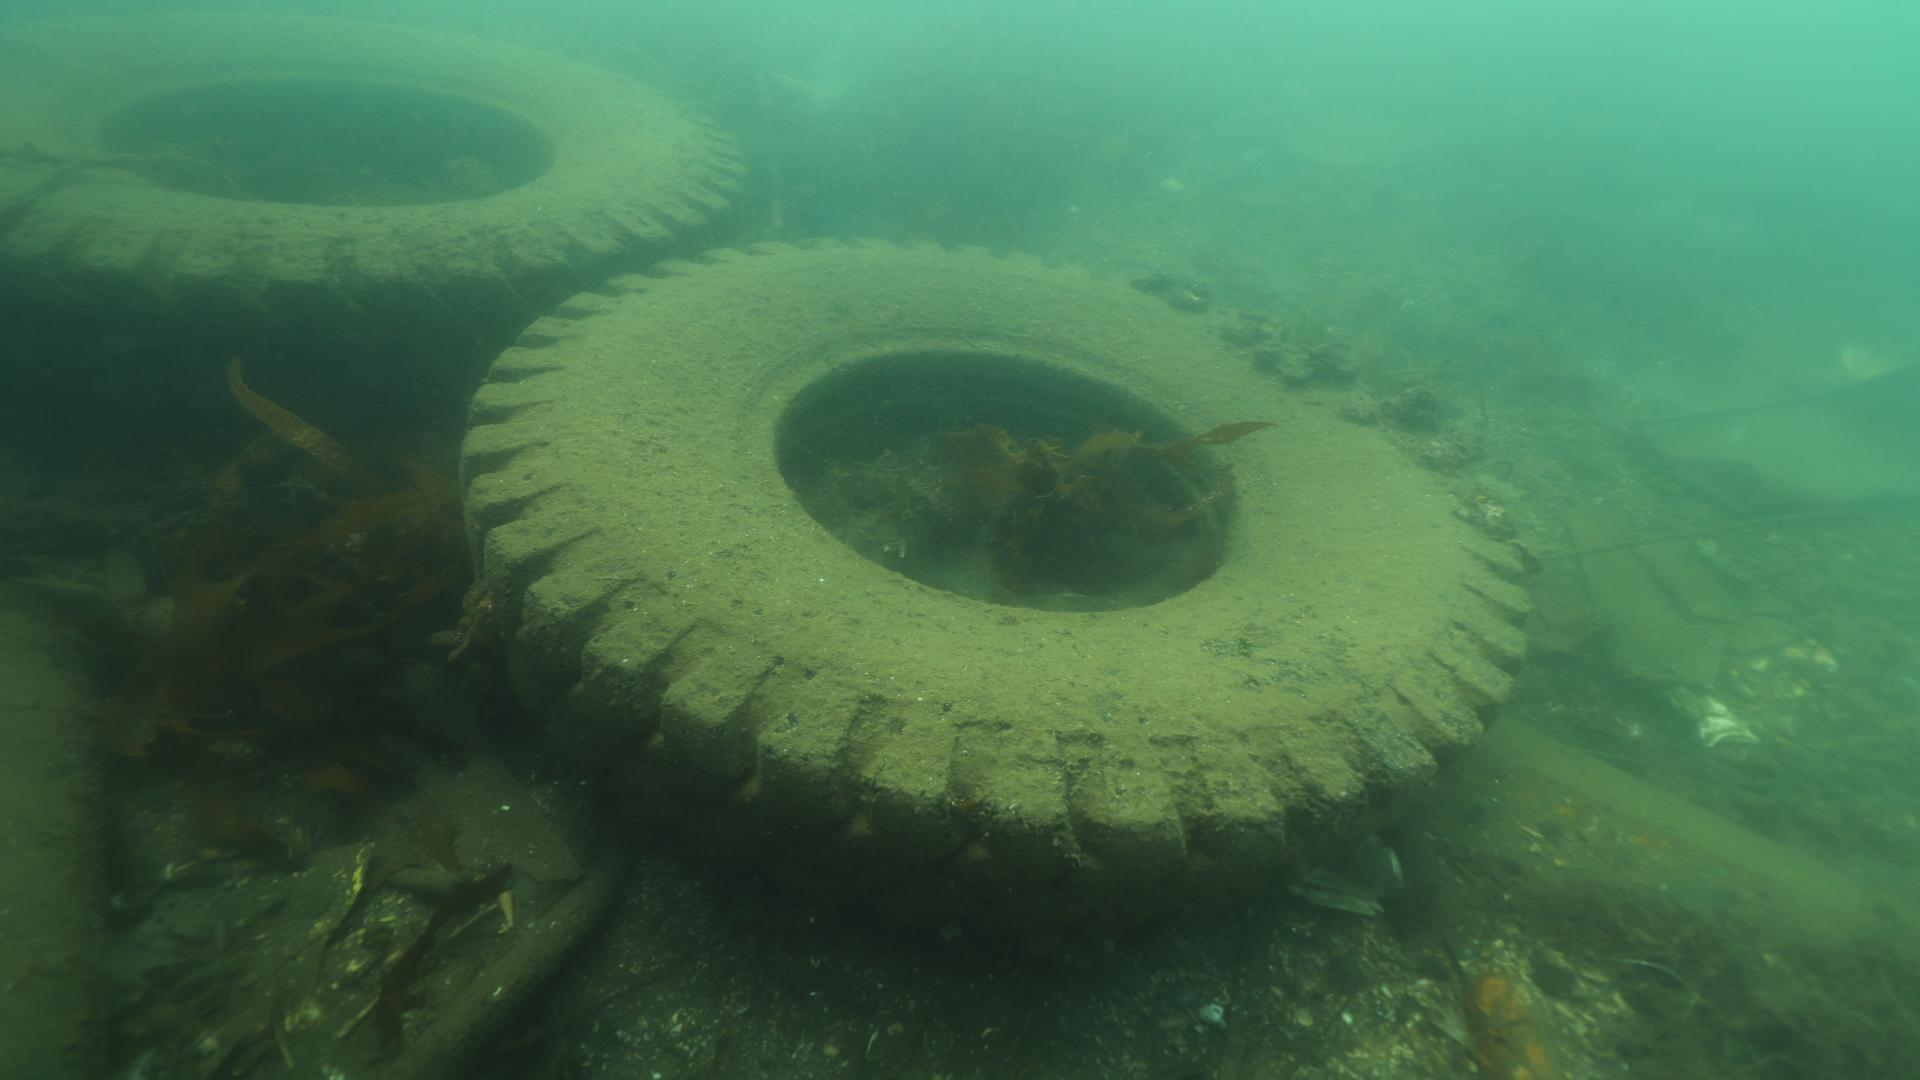tire: (458, 233, 1530, 938), (0, 0, 749, 440)
